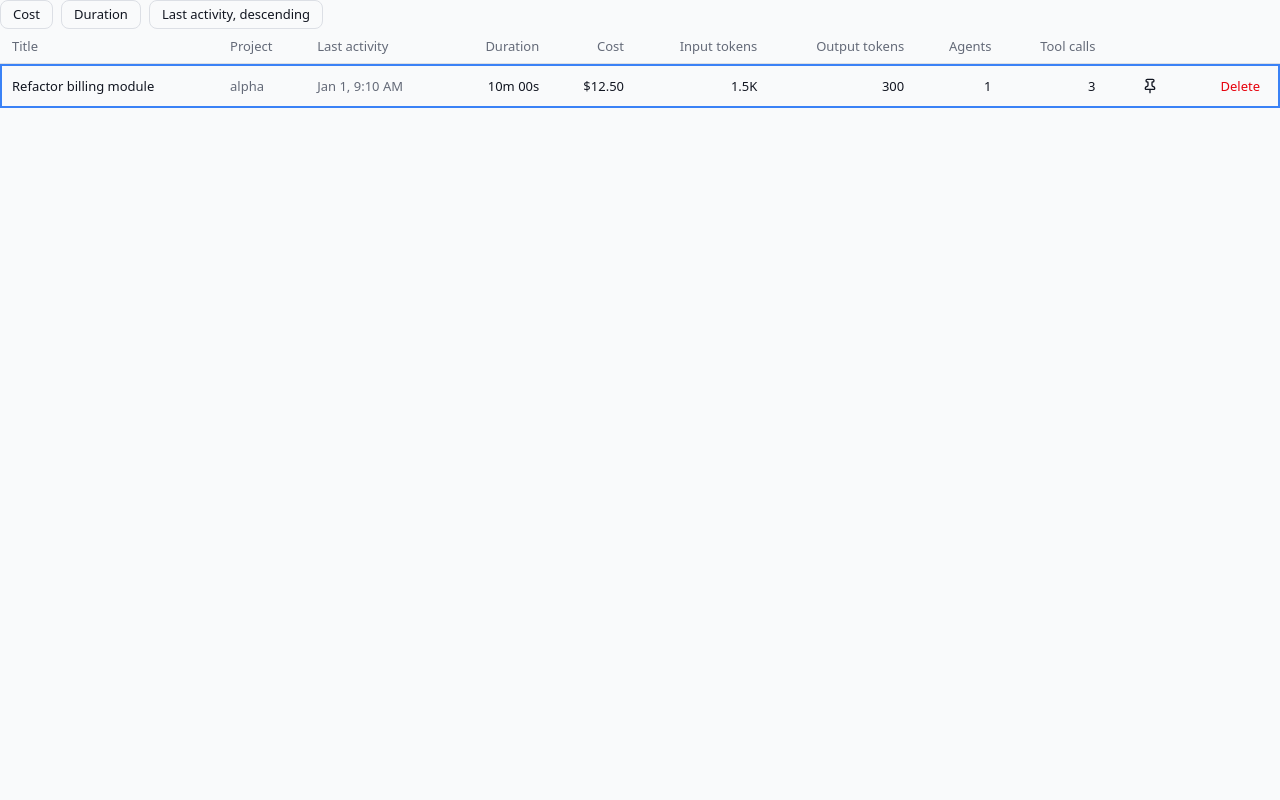
session deletion › cancelling or dismissing with Escape leaves the transcript untouched and its row in the list (E3-S5-AC2)
The image size is (1280, 800).
Click the button "Delete".
click(1240, 86)  # box 1212,73 -> 1268,99
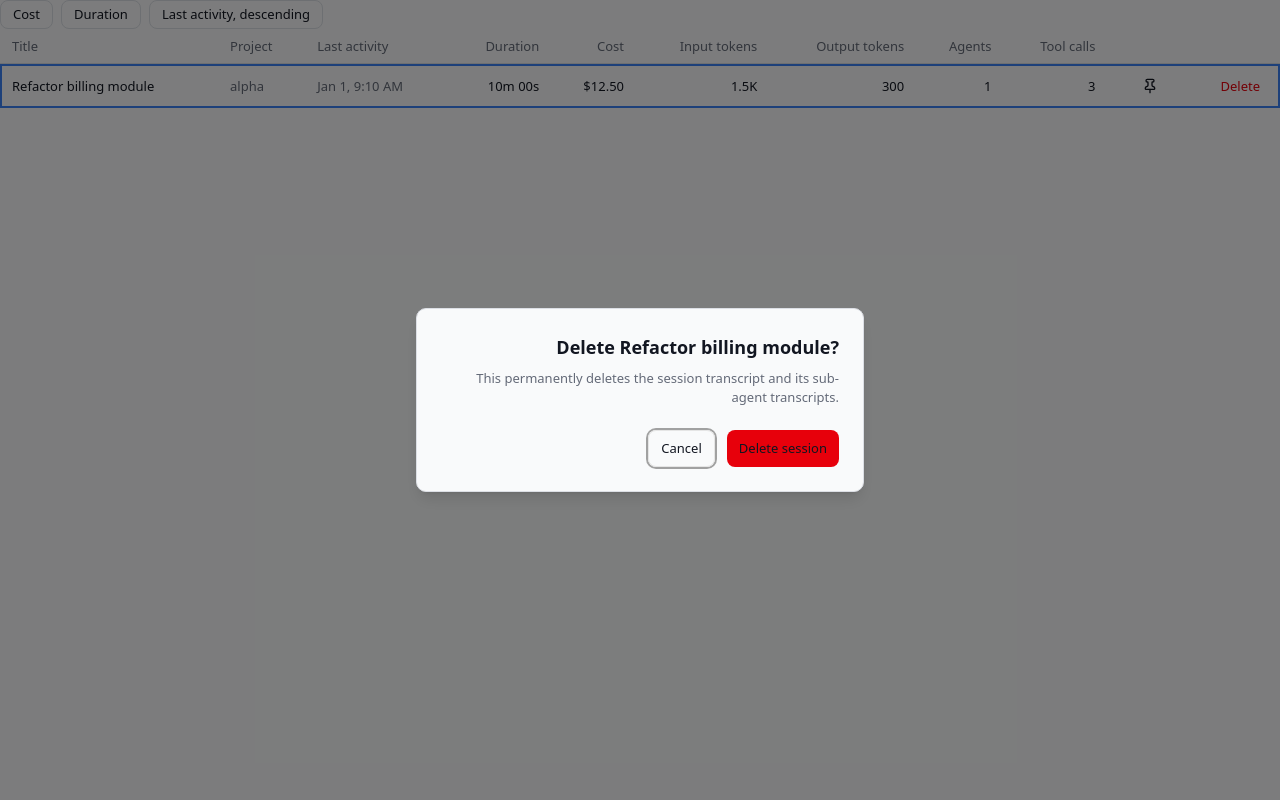
Click the button "Cancel".
click(682, 449)  # box 648,430 -> 715,467
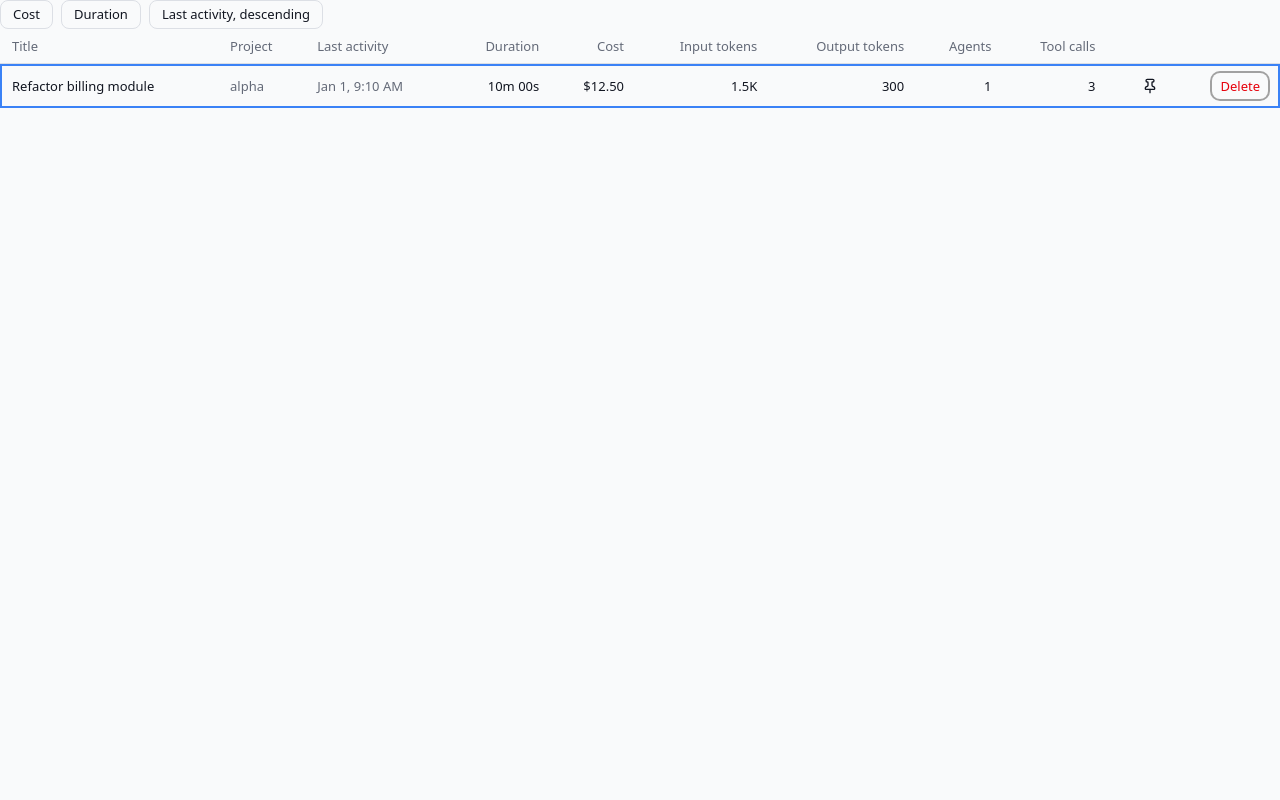
Check: the text "Refactor billing module" is shown, box 0,64 -> 218,108
Check: the dialog is gone
Click the button "Delete".
click(1240, 86)  # box 1212,73 -> 1268,99
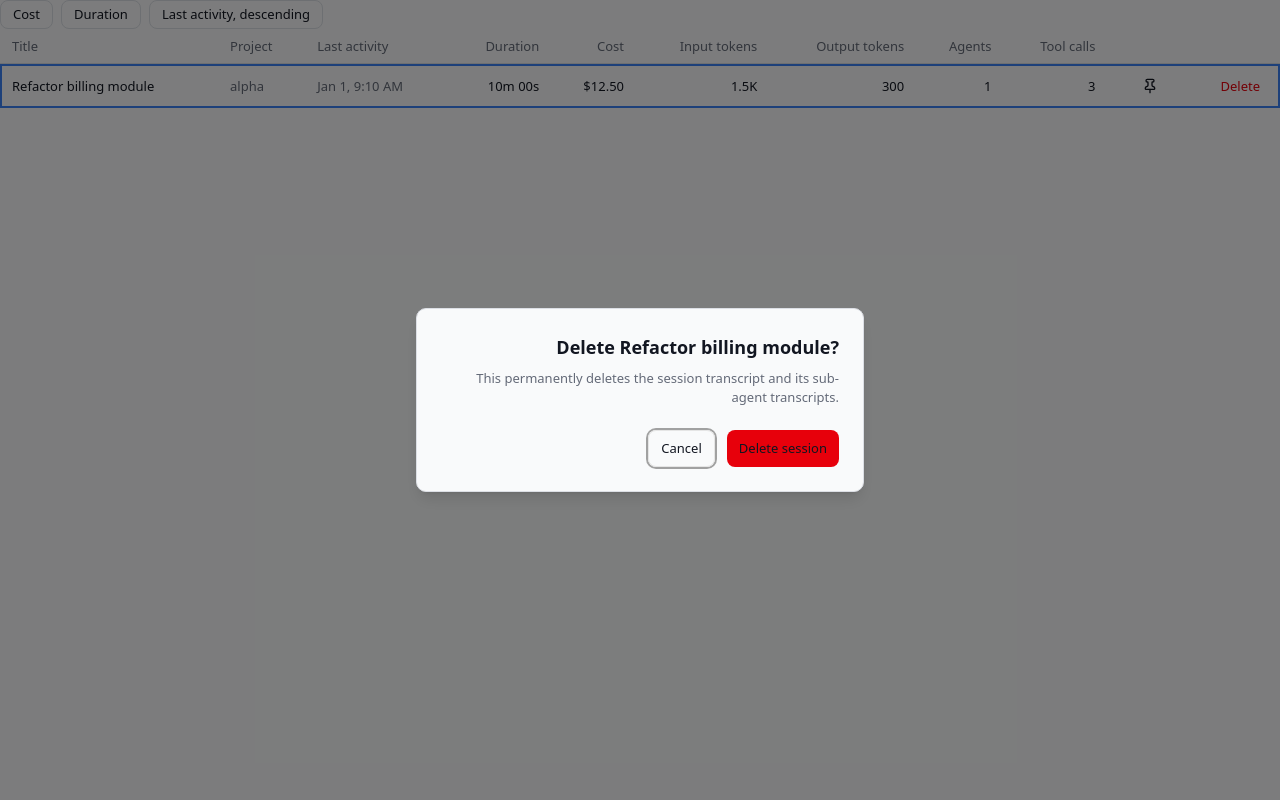
Press Escape
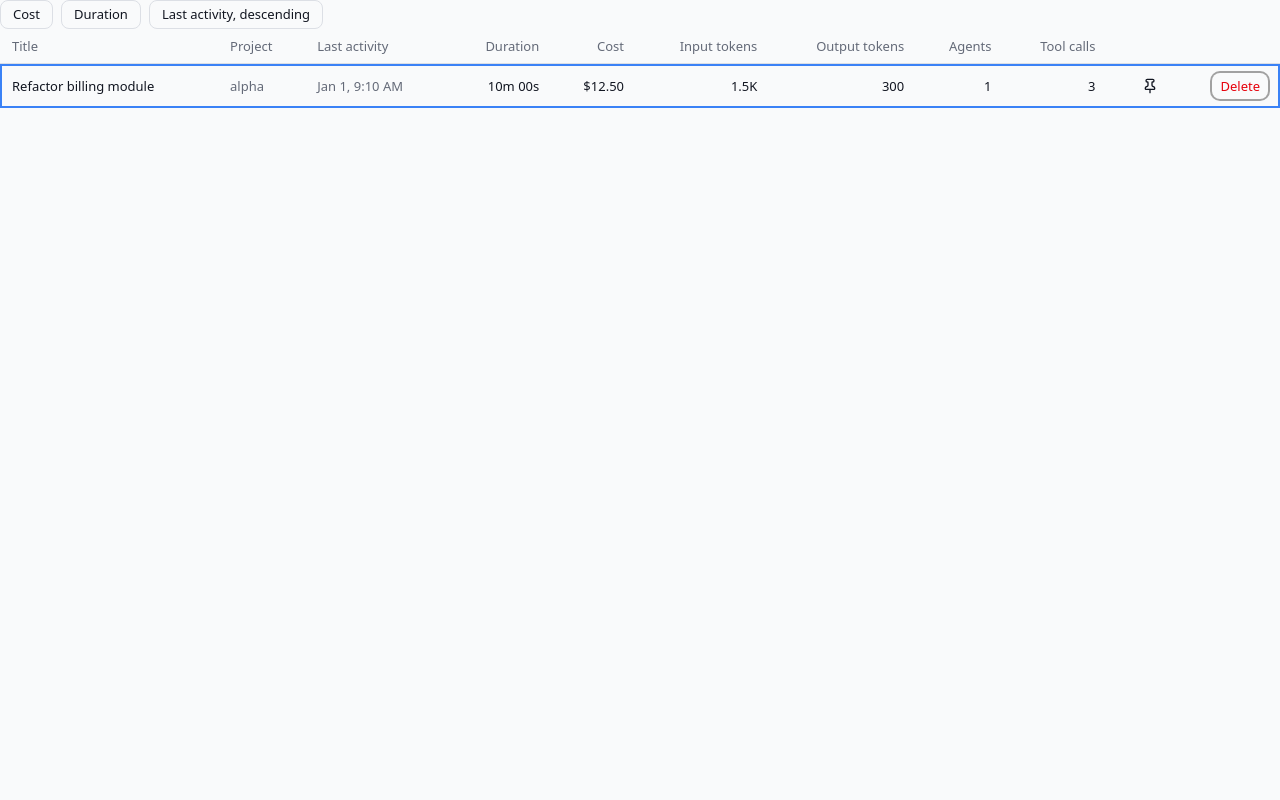
Check: the text "Refactor billing module" is shown, box 0,64 -> 218,108
Check: the dialog is gone
